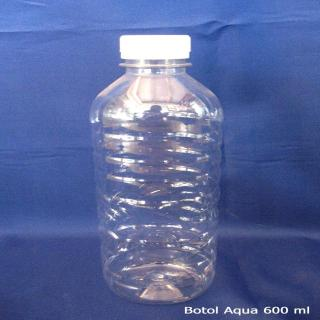Plastic-bottle: (88, 31, 226, 307)
